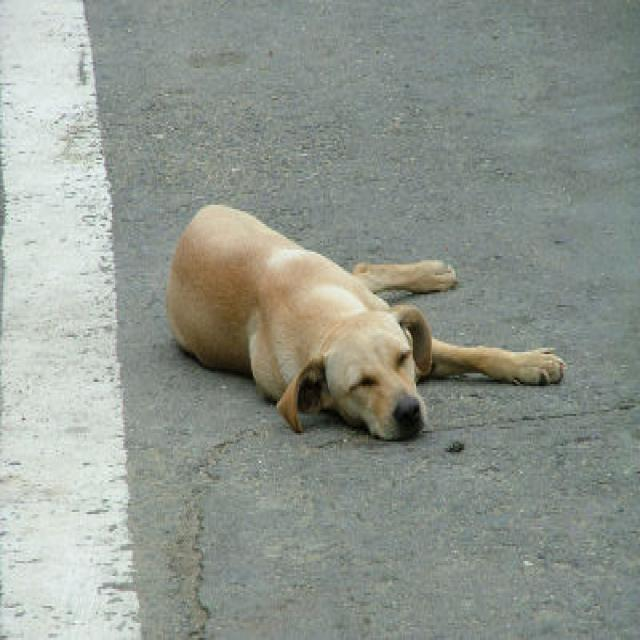dog: (103, 176, 577, 478)
